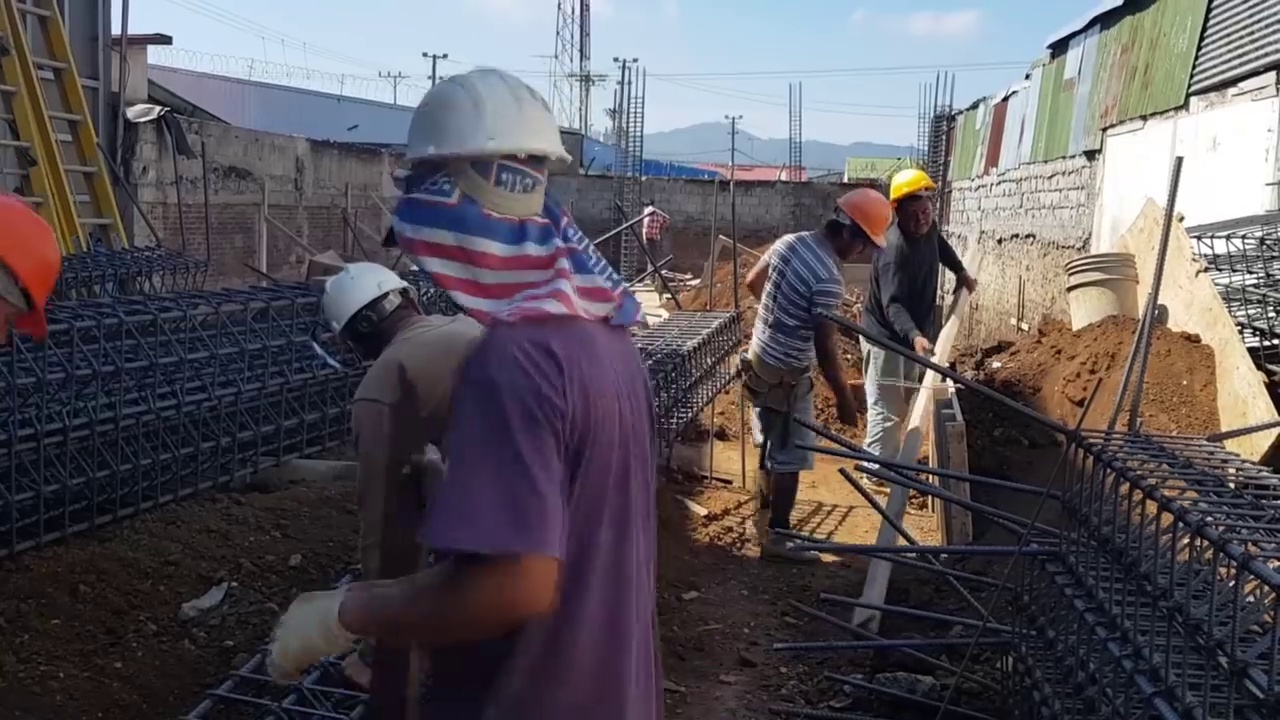helmet: (395, 66, 580, 178), (311, 264, 409, 352), (0, 202, 62, 341), (838, 191, 891, 246), (891, 166, 942, 204)
helmet-off: (644, 198, 658, 209)
helmet-on: (391, 62, 596, 314), (313, 248, 434, 369), (819, 186, 895, 262), (888, 163, 946, 240)
person: (263, 62, 671, 720), (308, 248, 493, 594), (740, 183, 879, 556), (865, 163, 981, 528), (642, 194, 670, 284)
